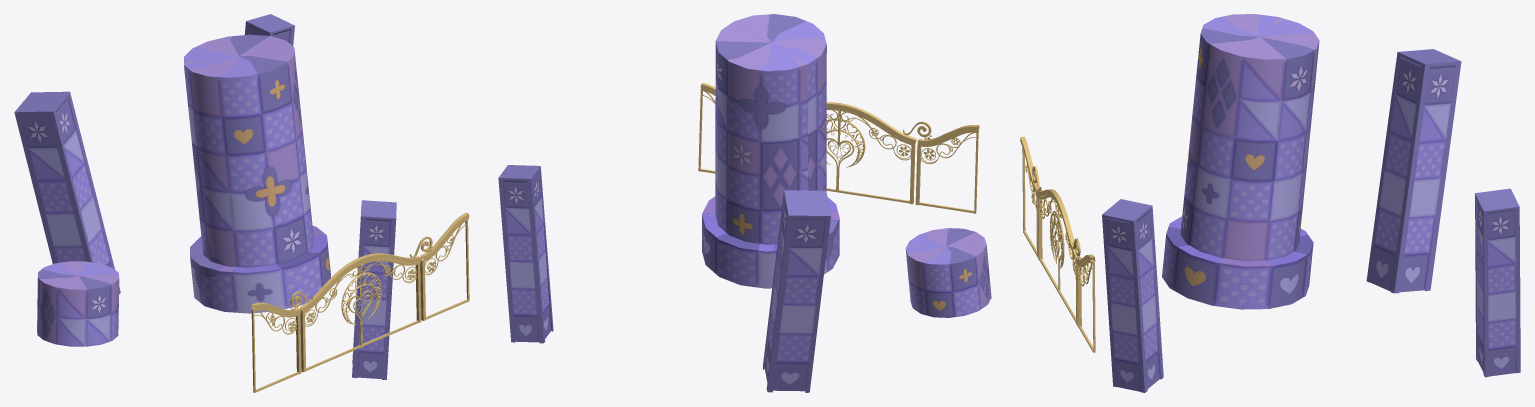
Rendered from background.glb.
3 views of the same model, side by side, from view 1: azimuth 30°, elevation 25°; view 2: azimuth 150°, elevation 25°; view 3: azimuth 270°, elevation 25° (orthographic). The views are drawn at different scales.
Parts seen in each view (by area): view 1: castle, Fence-body; view 2: castle, Fence-body; view 3: castle, Fence-body.
Part boxes in pixels (<box>): castle: <box>14,14,396,379</box>; Fence-body: <box>251,212,469,392</box>; castle: <box>498,14,991,392</box>; Fence-body: <box>698,82,979,213</box>; castle: <box>1102,14,1520,392</box>; Fence-body: <box>1020,136,1095,352</box>.
Bounding box in the file's own units: 16.48 × 12.69 × 18.28.
Materials: 2 (1 with a texture image).
